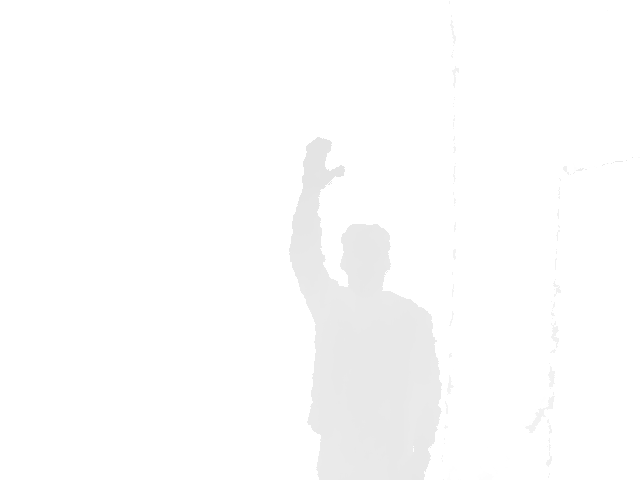hand: (301, 137, 347, 190)
head: (338, 223, 393, 289)
person: (289, 137, 443, 480)
